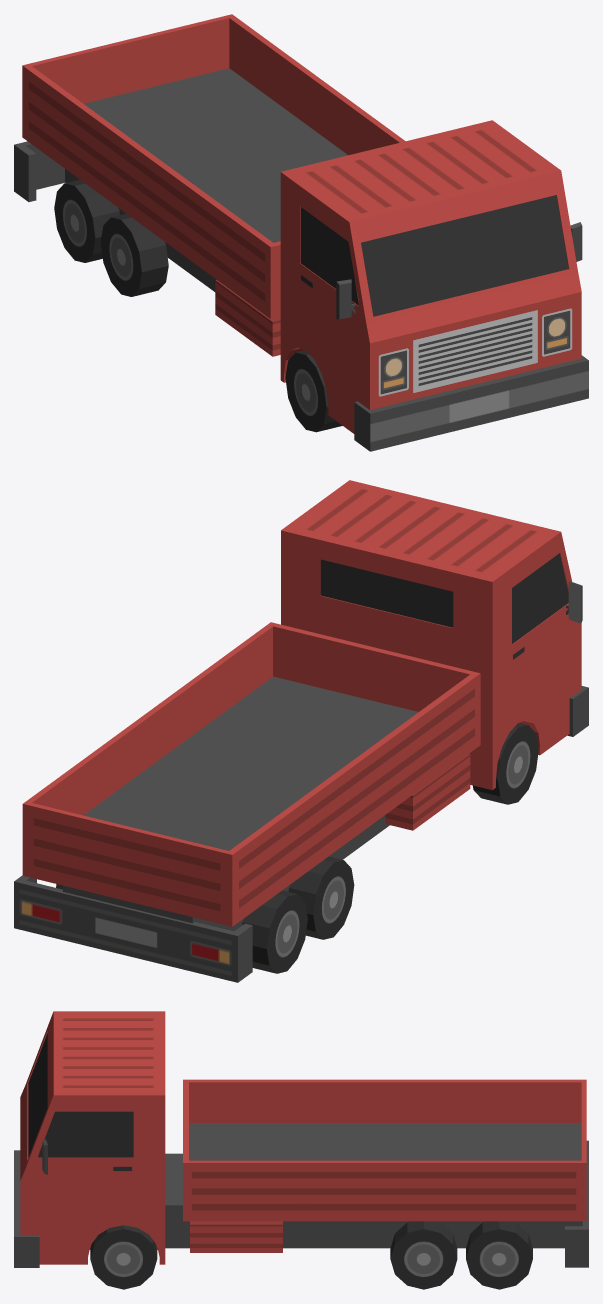
Rendered from vehicle-truck-color01.glb.
The picture shows the model from 3 angles, top to bottom: view 1: azimuth 30°, elevation 25°; view 2: azimuth 150°, elevation 25°; view 3: azimuth 270°, elevation 25°; orthographic projection. The views are drawn at different scales.
Parts seen in each view (by area): view 1: model; view 2: model; view 3: model.
Part boxes in pixels (x1=…): model: x1=14, y1=14, x2=588, y2=451; model: x1=14, y1=480, x2=588, y2=982; model: x1=14, y1=1011, x2=588, y2=1289.
Bounding box in the file's own units: 3.63 × 3.39 × 9.1.
1 material, 1 textured.
